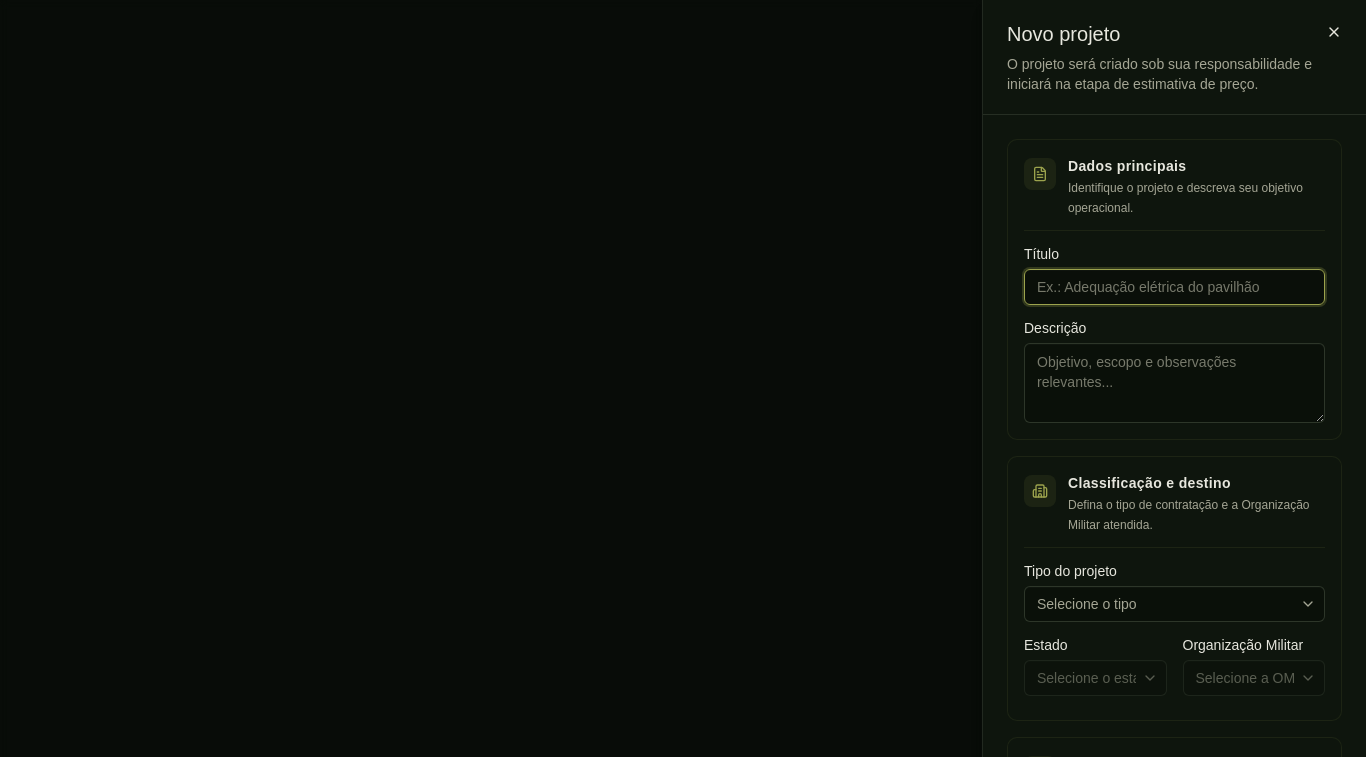
Scenario: ProjectFormSheet › carrega somente OMs ativas do estado escolhido para fibra
This screenshot has width=1366, height=757.
Click the dropdown named "Tipo do projeto" at (1087, 604), box [1024, 586, 1325, 622]
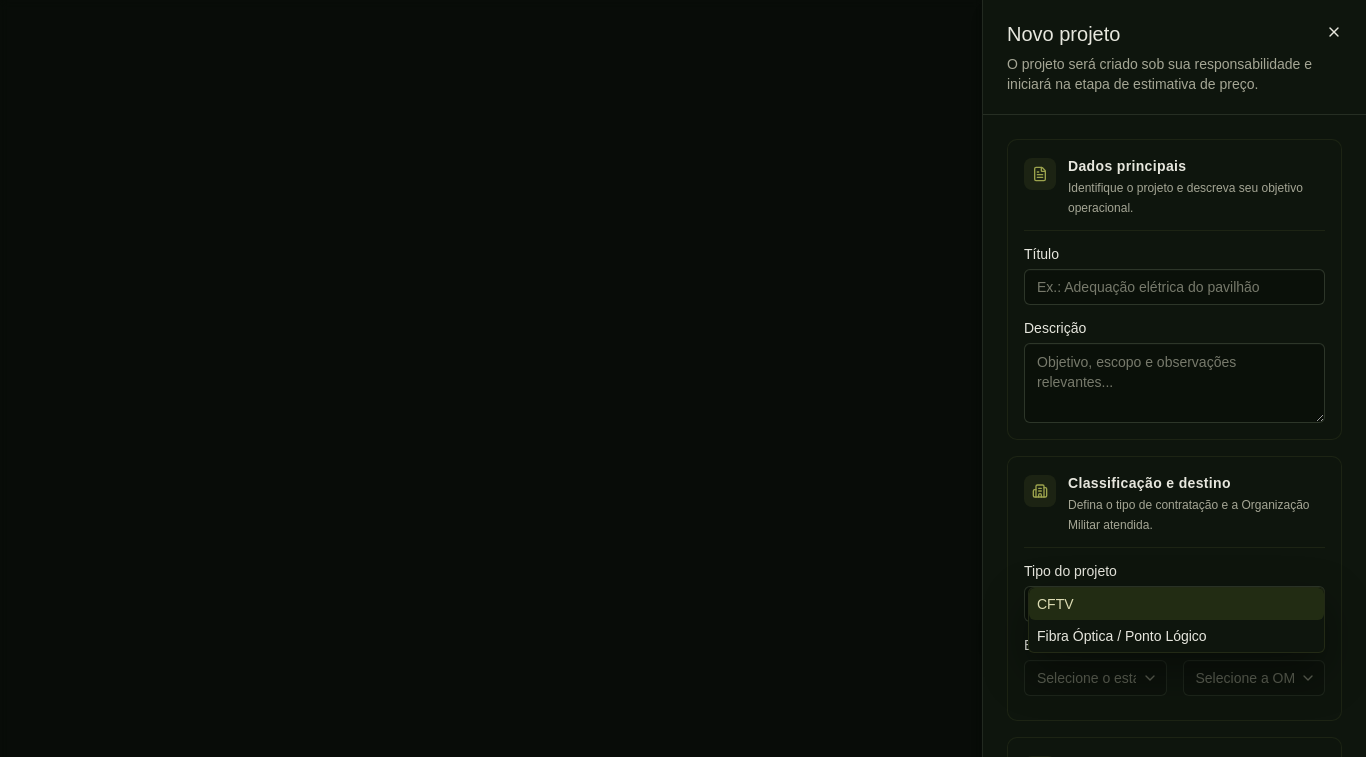
Click the option "Fibra Óptica / Ponto Lógico" at (1122, 636), box [1037, 628, 1207, 644]
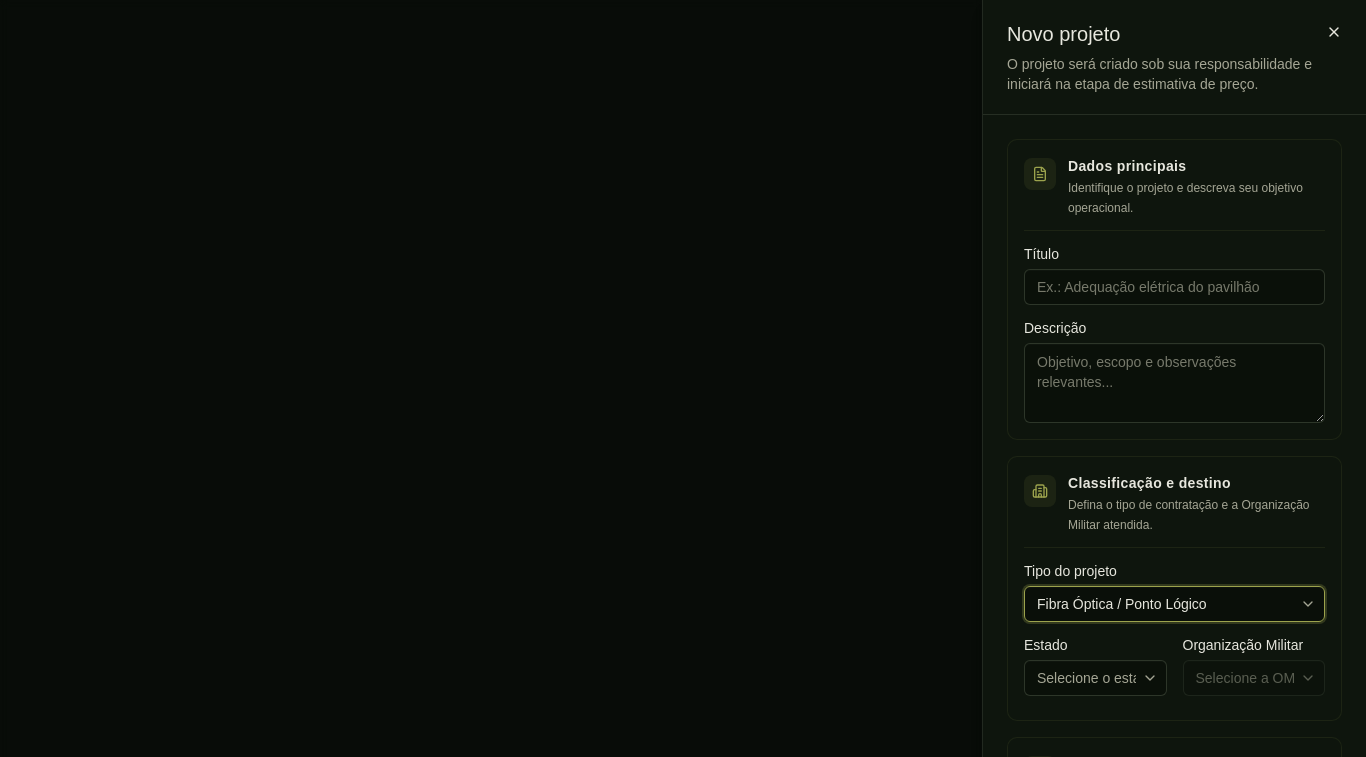
Click the dropdown labelled "estado" at (1095, 678), box [1024, 660, 1166, 696]
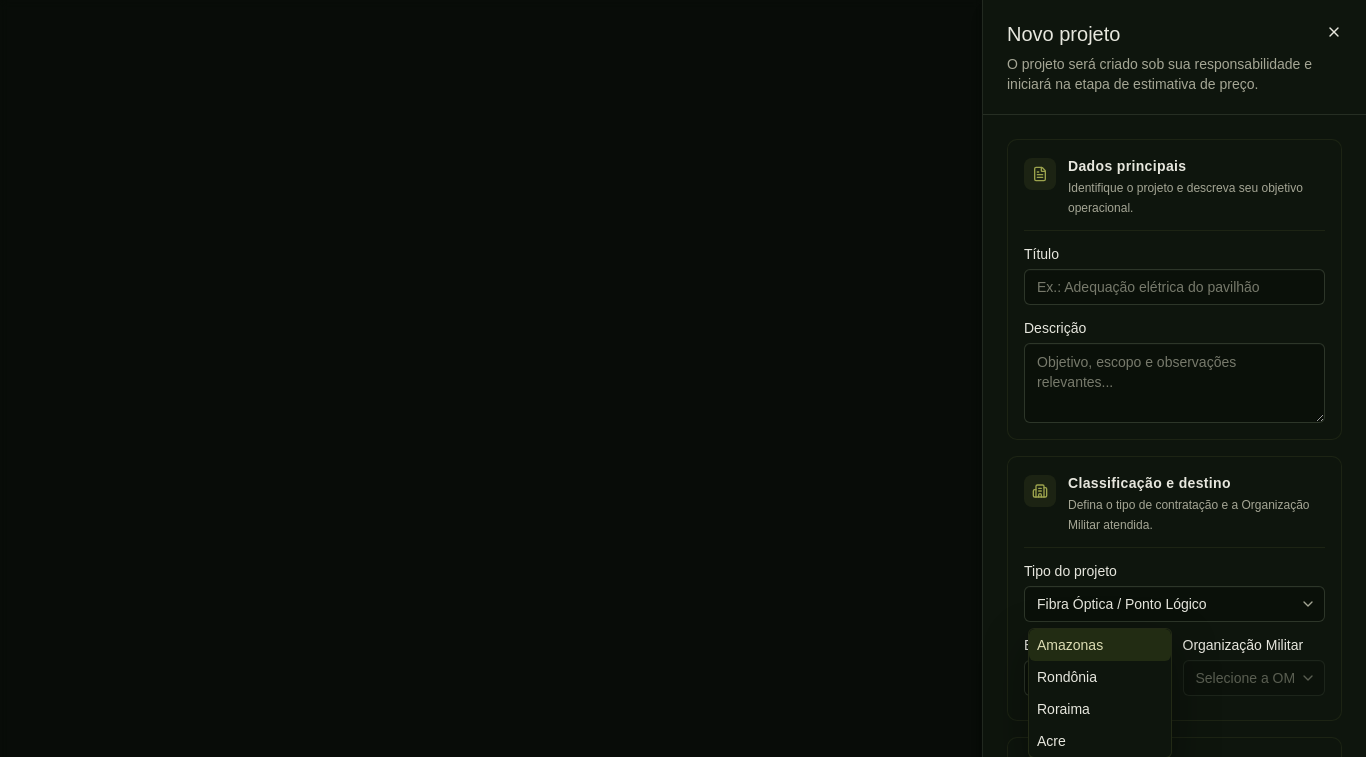
Click the option "Rondônia" at (1067, 677), box [1037, 669, 1097, 685]
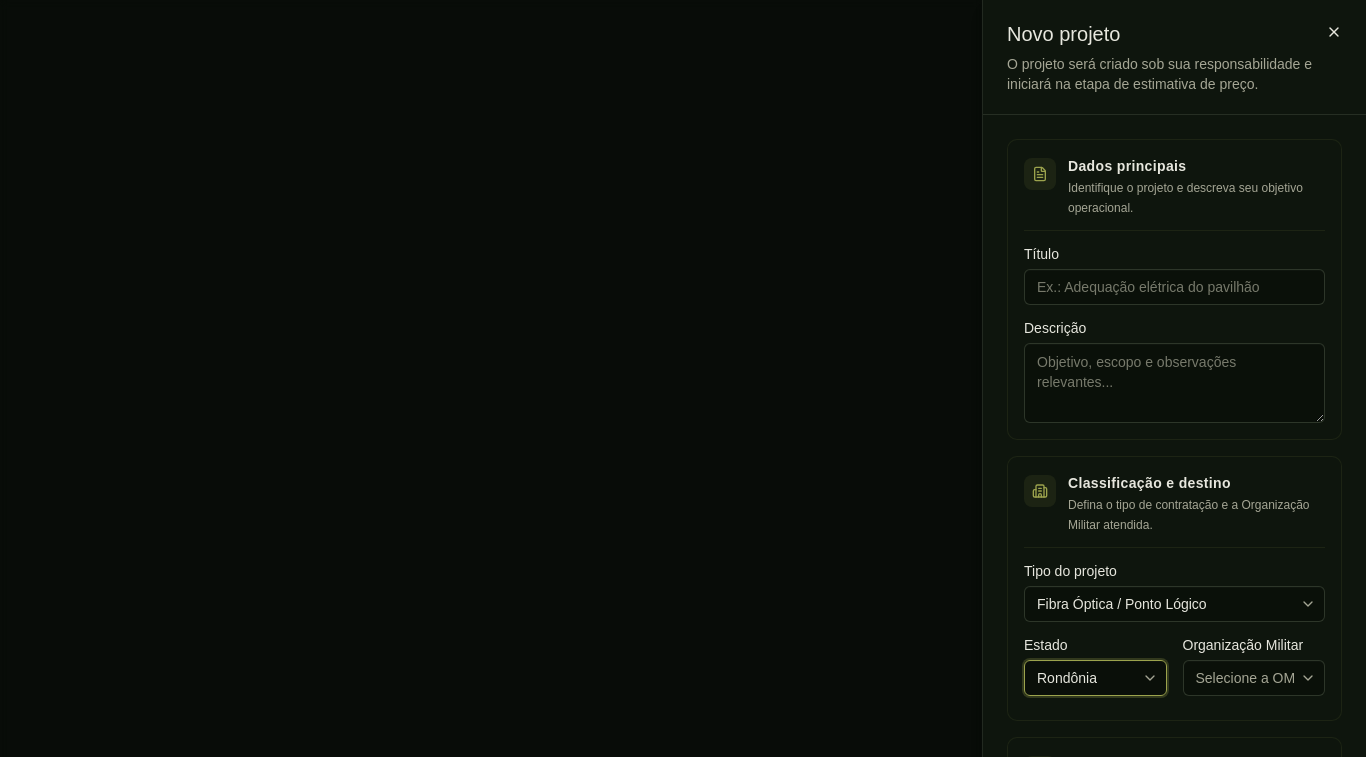
Click the dropdown named "Organização Militar" at (1254, 678), box [1182, 660, 1325, 696]
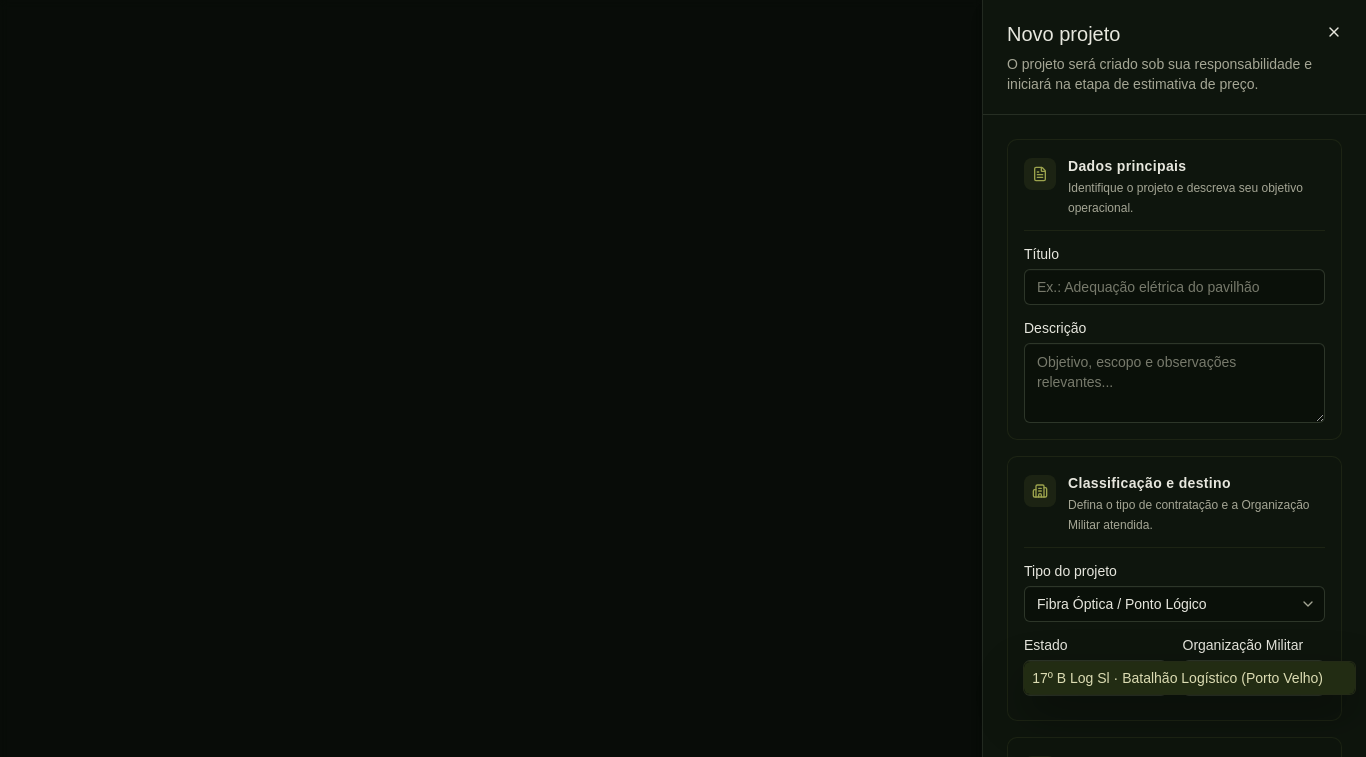
Now the option "17º B Log Sl · Batalhão Logístico (Porto Velho)" is shown, box [1024, 662, 1355, 694]
